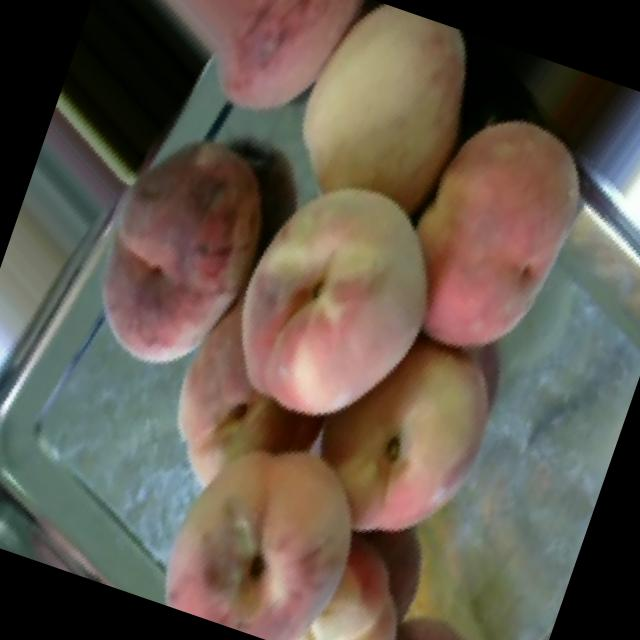Fruit: (200, 138, 494, 478), (348, 76, 623, 406), (262, 287, 549, 603), (120, 379, 421, 640), (53, 95, 300, 410), (238, 0, 493, 269), (68, 0, 395, 163)
